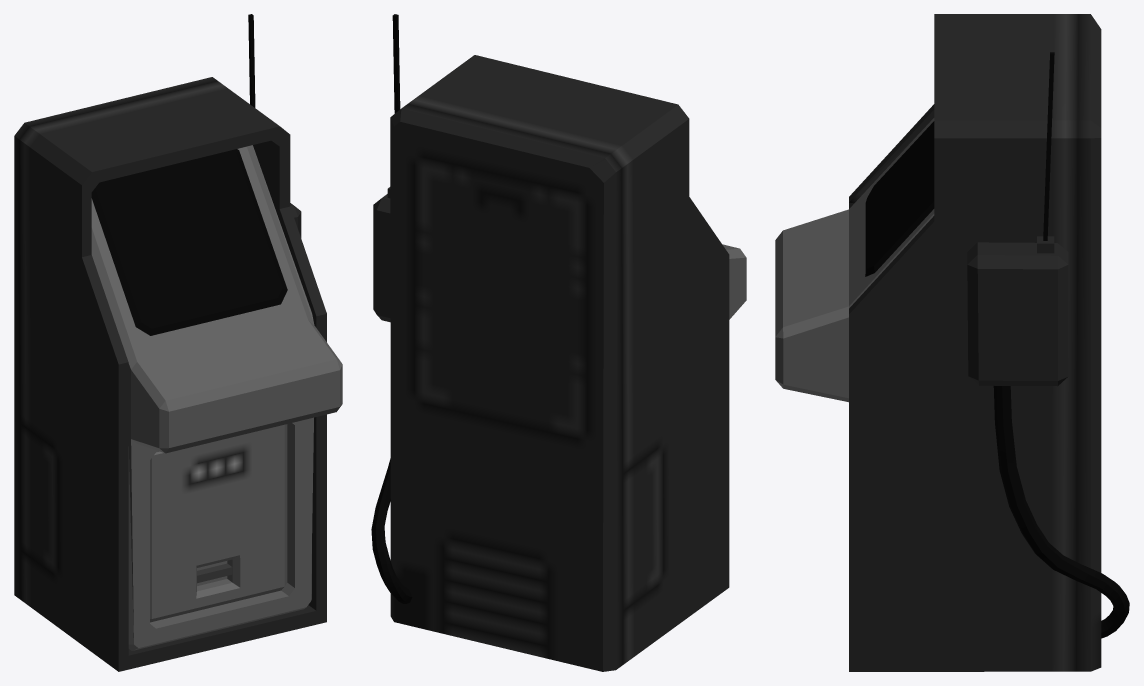
The model's file is terminal.fbx.
3 renders of one model, left to right at view 1: azimuth 30°, elevation 25°; view 2: azimuth 150°, elevation 25°; view 3: azimuth 270°, elevation 25°, orthographic. The views are drawn at different scales.
Parts seen in each view (by area): view 1: terminal; view 2: terminal; view 3: terminal.
Part boxes in pixels (x1=…): terminal: x1=14, y1=14, x2=342, y2=671; terminal: x1=371, y1=14, x2=746, y2=671; terminal: x1=775, y1=14, x2=1129, y2=671.
Bounding box in the file's own units: 77.61 × 168 × 86.31.
Materials: 1 (1 with a texture image).
